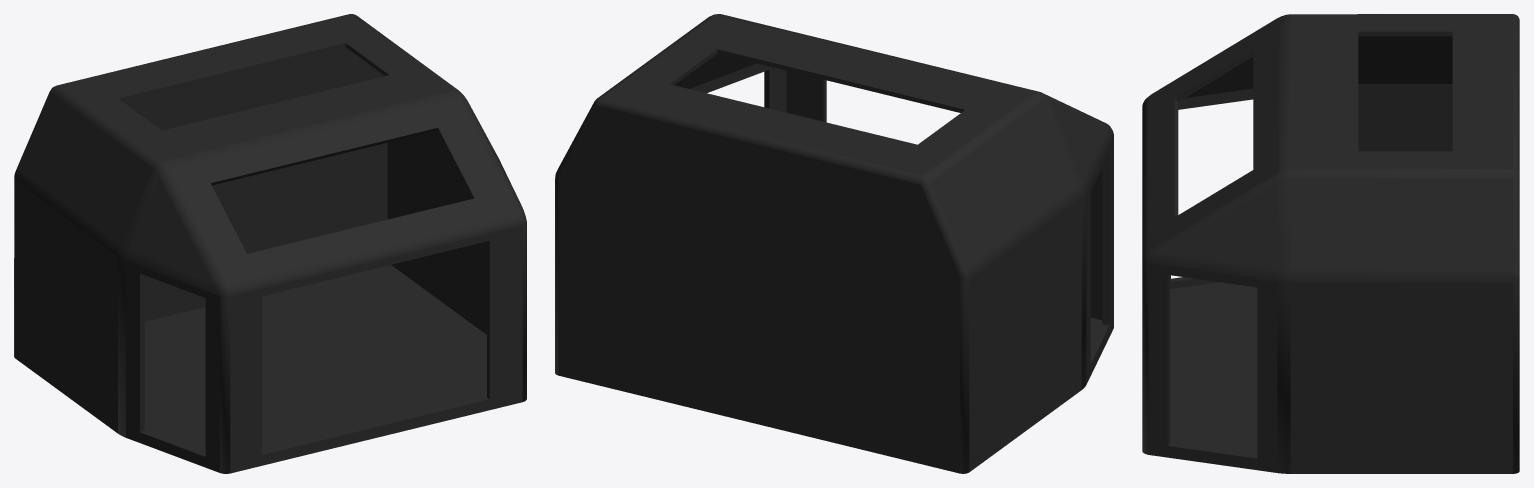
3 renders of one model, left to right at view 1: azimuth 30°, elevation 25°; view 2: azimuth 150°, elevation 25°; view 3: azimuth 270°, elevation 25°, orthographic. The views are drawn at different scales.
Visible parts, largest first — view 1: BoxEmpty; view 2: BoxEmpty; view 3: BoxEmpty.
Part boxes in pixels (x1,y1,x2,y2): BoxEmpty: [14, 14, 526, 473]; BoxEmpty: [555, 14, 1113, 473]; BoxEmpty: [1142, 14, 1519, 473].
Size of the model in its own units: 0.5 by 0.33 by 0.4.
